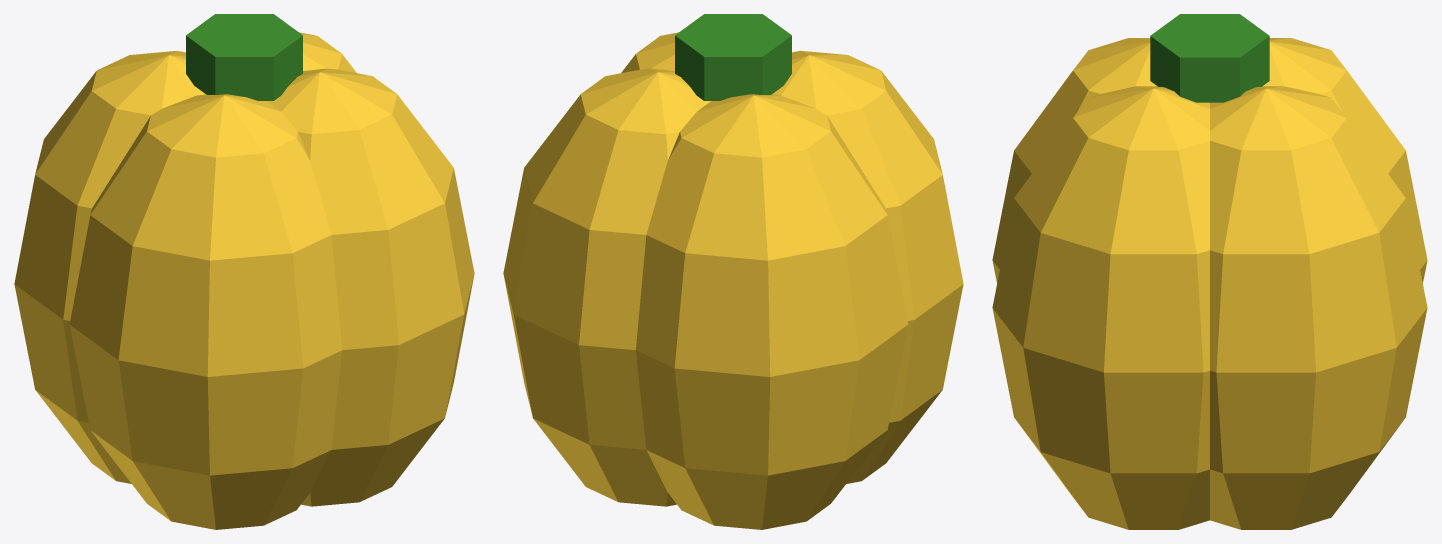
File: YellowPepper.fbx
The picture shows the model from 3 angles, left to right: view 1: azimuth 30°, elevation 25°; view 2: azimuth 150°, elevation 25°; view 3: azimuth 270°, elevation 25°; orthographic projection.
Visible parts, largest first — view 1: YellowPepper; view 2: YellowPepper; view 3: YellowPepper.
Boxes of the visible parts, bbox=[...] form: YellowPepper: bbox=[14, 14, 474, 529]; YellowPepper: bbox=[503, 14, 963, 529]; YellowPepper: bbox=[992, 14, 1427, 529].
Size of the model in its own units: 0.8426 by 1.04 by 0.8743.
1 material, 1 textured.
